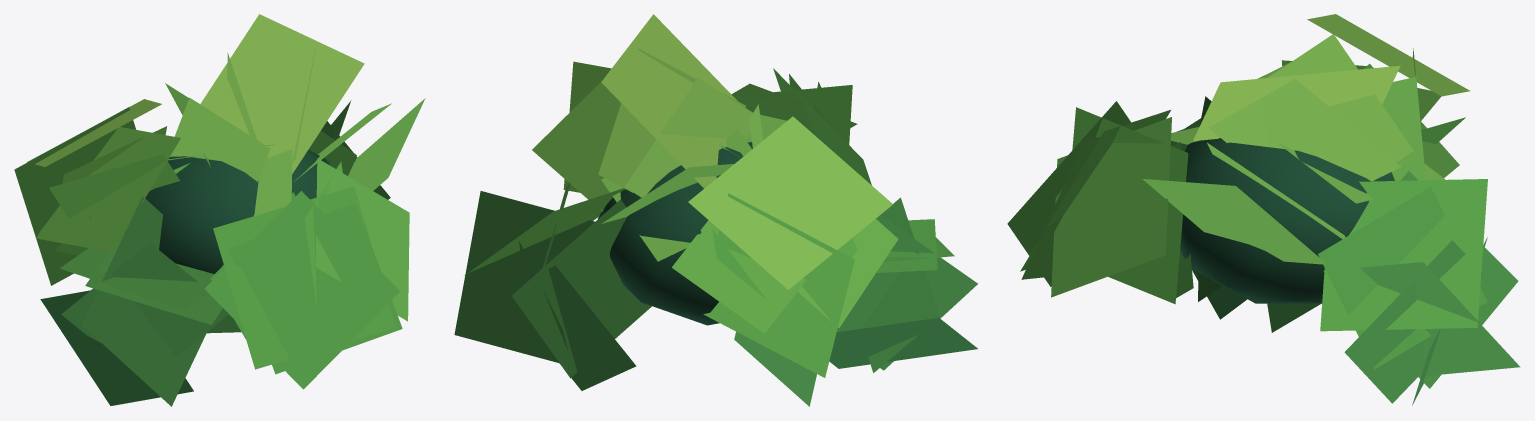
File: bush_a.glb
The picture shows the model from 3 angles, left to right: view 1: azimuth 30°, elevation 25°; view 2: azimuth 150°, elevation 25°; view 3: azimuth 270°, elevation 25°; orthographic projection. The views are drawn at different scales.
Visible parts, largest first — view 1: Leaves, Bush; view 2: Leaves, Bush; view 3: Leaves, Bush.
Boxes of the visible parts, x1,y1,x2,y2 form: Leaves: (14,14,425,406); Bush: (145,149,329,273); Leaves: (454,14,977,406); Bush: (598,142,752,325); Leaves: (1007,14,1520,405); Bush: (1180,138,1394,303).
Bounding box in the file's own units: 1.2 × 0.8851 × 1.22.
